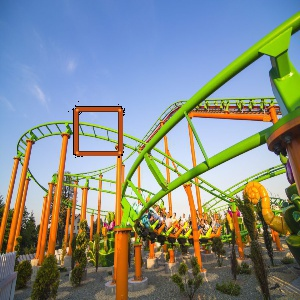square: (71, 103, 125, 158)
